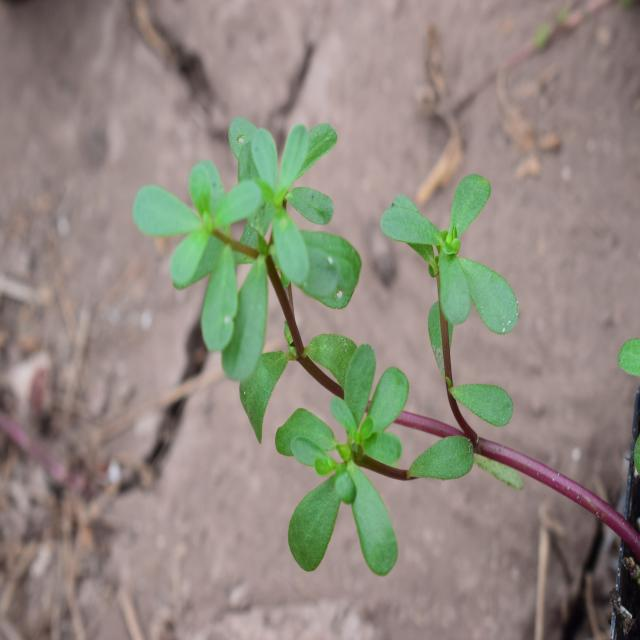purslane: (152, 106, 558, 578)
